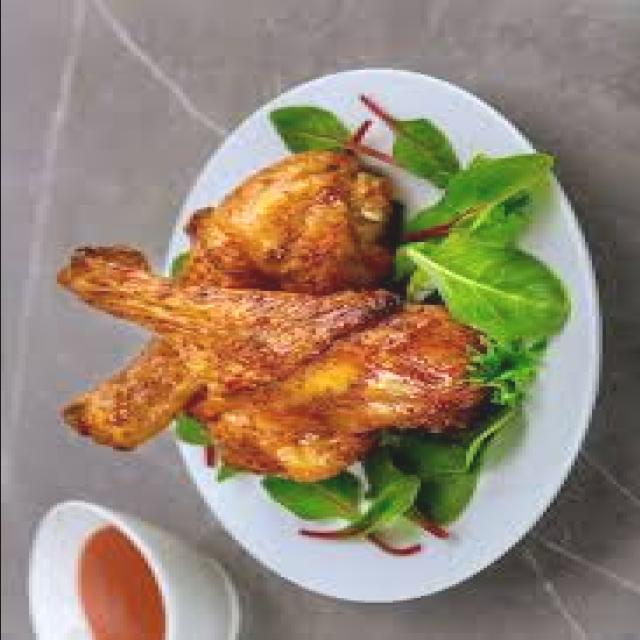ayam goreng: (59, 247, 486, 431)
